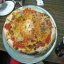pizza: (4, 8, 55, 54)
